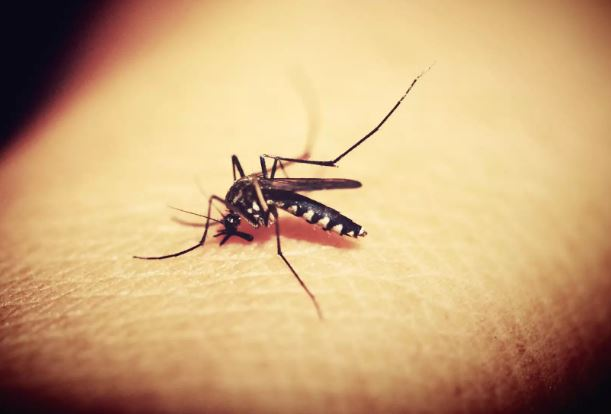dengue_mosquito: (132, 150, 380, 266)
